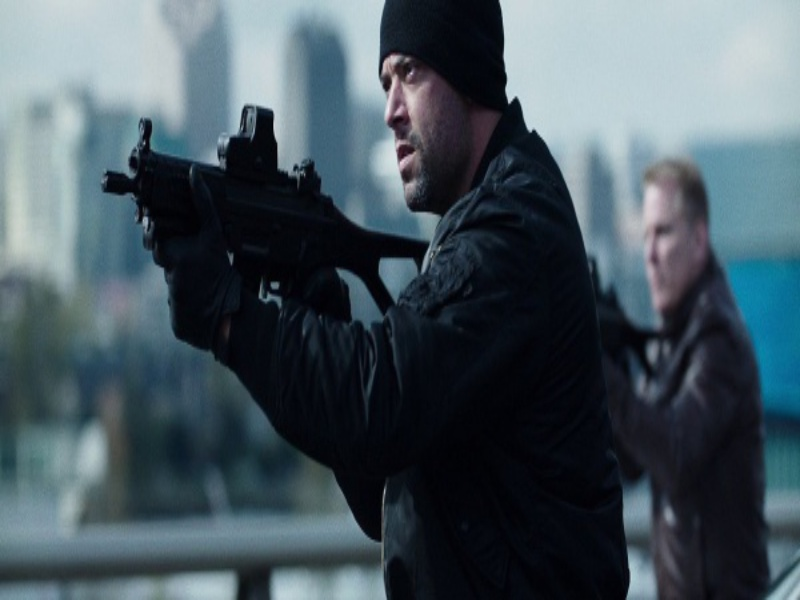person: (156, 1, 629, 597), (601, 167, 768, 594)
weapon: (100, 109, 428, 331), (587, 254, 656, 383)
